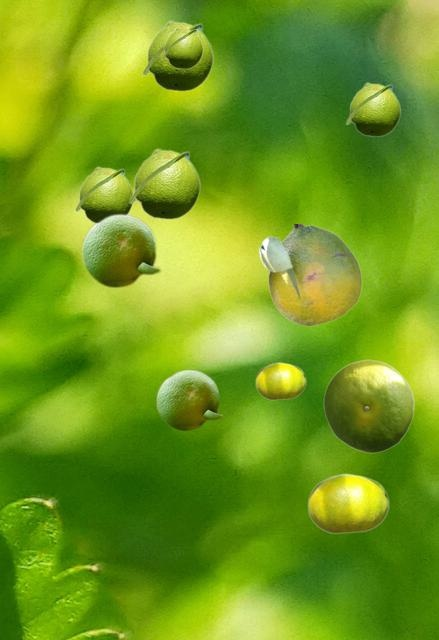dalandan: (258, 224, 361, 325), (323, 359, 413, 452), (80, 212, 161, 287), (141, 20, 213, 91), (128, 148, 200, 219), (307, 473, 388, 533), (155, 368, 223, 430), (74, 166, 133, 222), (345, 82, 400, 136), (255, 362, 305, 399), (161, 27, 202, 68)
